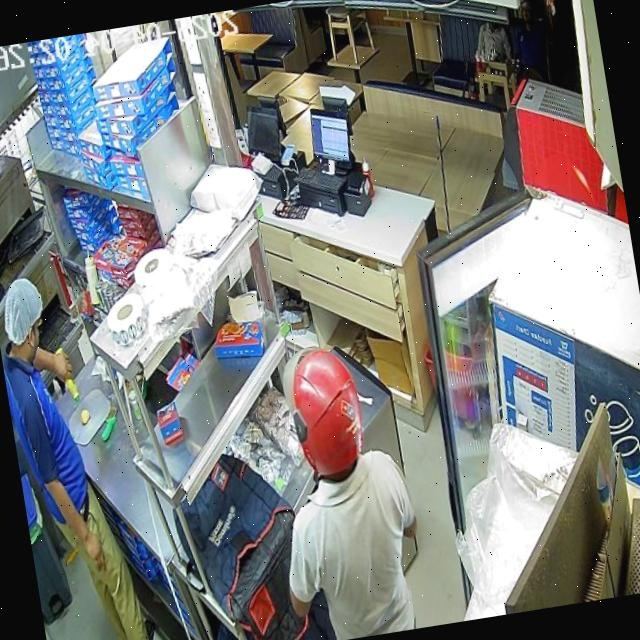helmet: (283, 347, 366, 477)
no_helmet: (3, 278, 44, 363)
